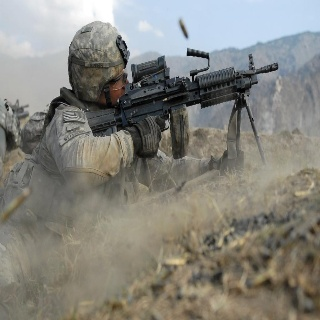rifle: (83, 46, 278, 166)
